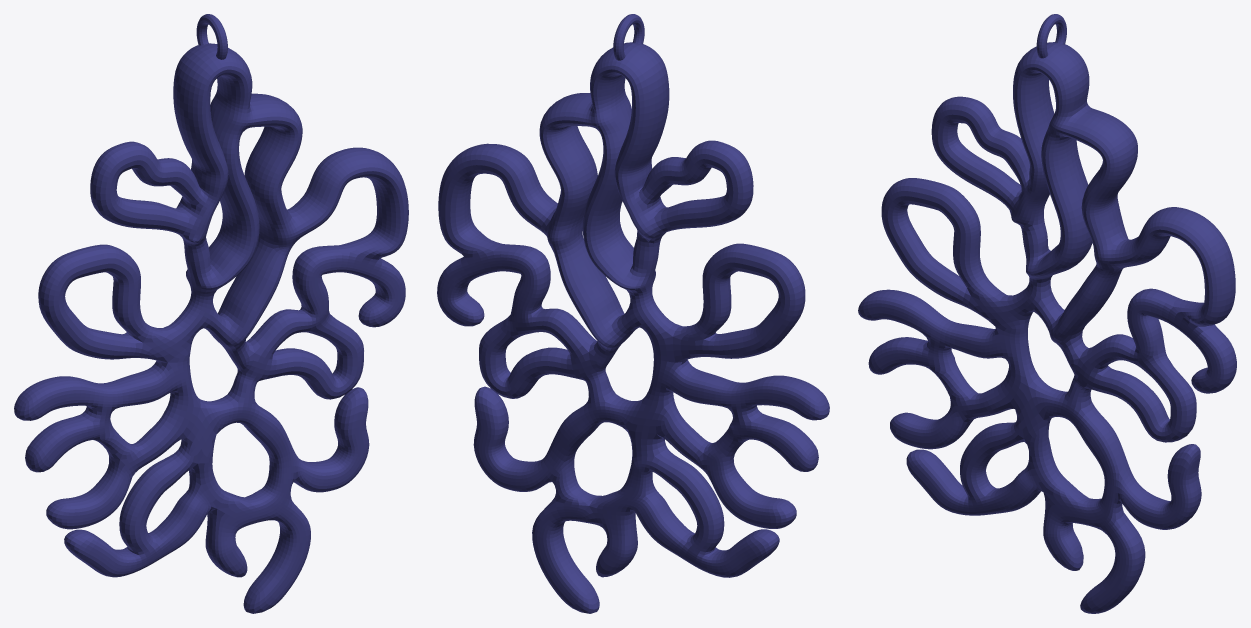
File: abstract_pendant_opt.glb
3 renders of one model, left to right at view 1: azimuth 30°, elevation 25°; view 2: azimuth 150°, elevation 25°; view 3: azimuth 330°, elevation 25°, orthographic. The views are drawn at different scales.
Parts seen in each view (by area): view 1: Torus; view 2: Torus; view 3: Torus.
Part boxes in pixels (x1,y1,x2,y2): Torus: (14,14,408,613); Torus: (437,14,829,613); Torus: (858,14,1236,613).
Bounding box in the file's own units: 4.73 × 7.08 × 0.638.
